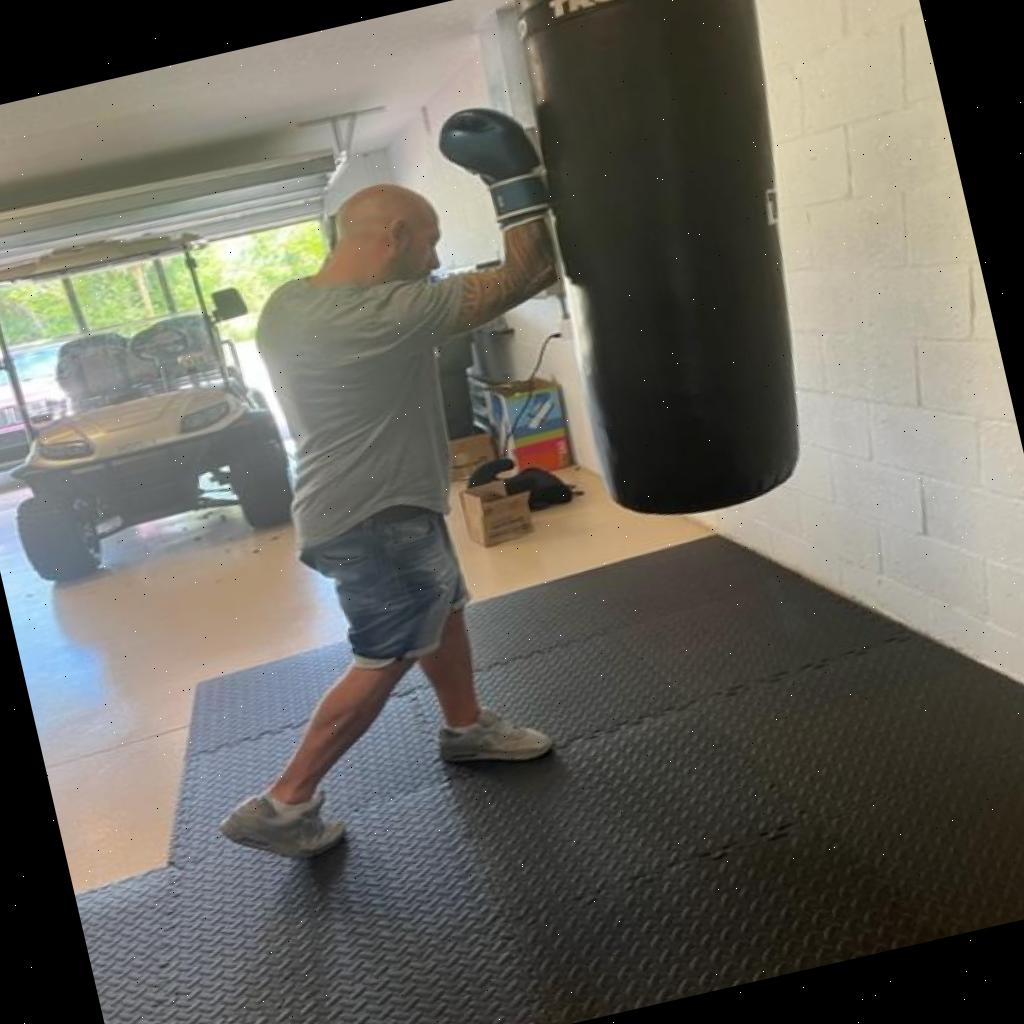uppercut: (193, 60, 602, 418)
